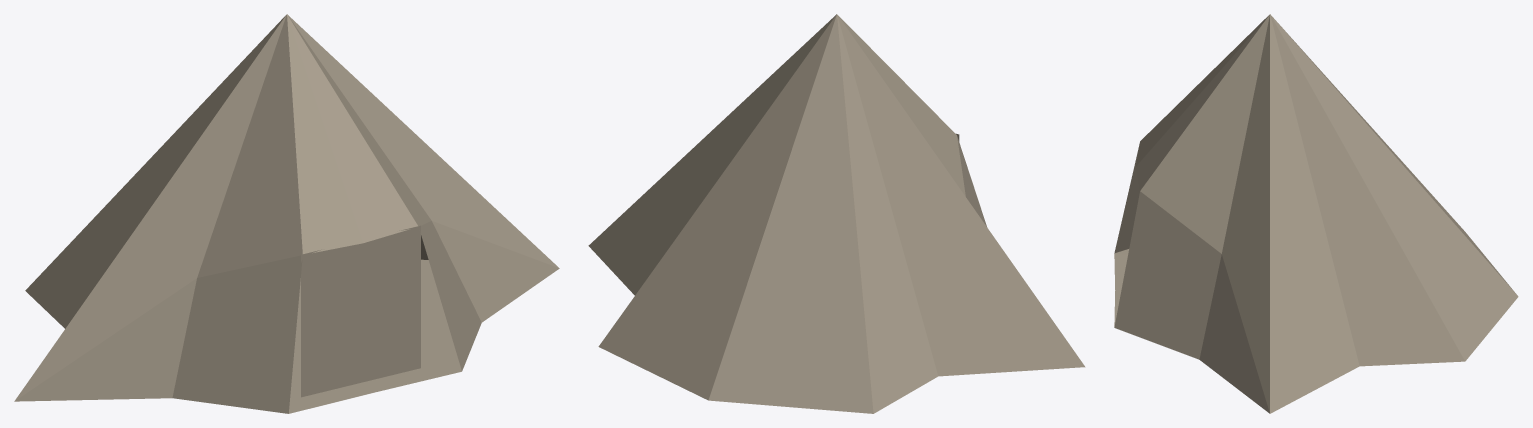
File: Tent.fbx
The picture shows the model from 3 angles, left to right: view 1: azimuth 30°, elevation 25°; view 2: azimuth 150°, elevation 25°; view 3: azimuth 270°, elevation 25°; orthographic projection. The views are drawn at different scales.
Parts seen in each view (by area): view 1: Tent, Door; view 2: Tent; view 3: Tent.
Part boxes in pixels (box(x1,y1,x2,y2)): Tent: box(14, 14, 559, 413); Door: box(301, 225, 420, 397); Tent: box(588, 14, 1085, 413); Tent: box(1114, 14, 1518, 413).
Bounding box in the file's own units: 469 × 264 × 342.
